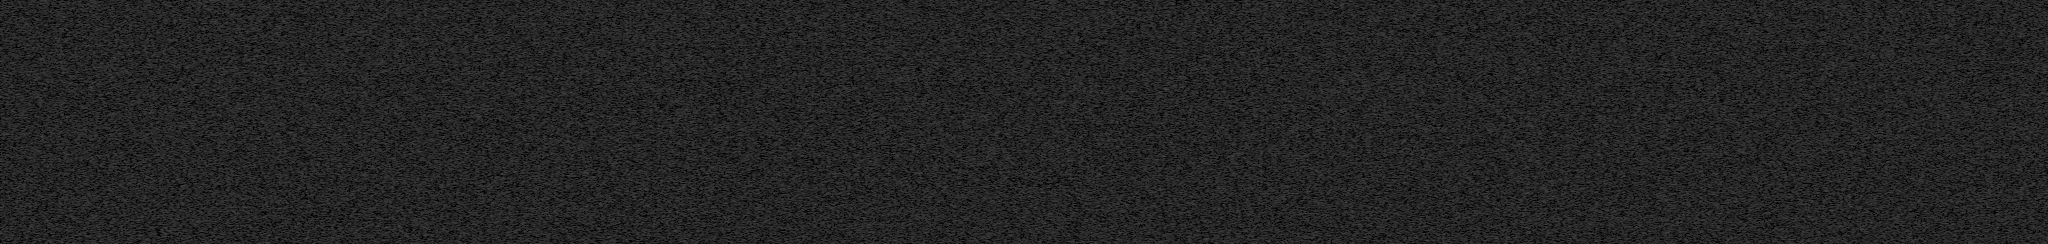wv_am: (502, 0, 516, 244)
wv_cw: (1529, 0, 1549, 244), (1708, 0, 1725, 244)
wv_lsb: (1755, 35, 1761, 63), (1755, 64, 1761, 82), (1755, 7, 1761, 21), (1755, 22, 1761, 34), (1755, 100, 1759, 115), (1755, 127, 1759, 136), (1755, 93, 1759, 100), (1755, 116, 1759, 123), (1755, 84, 1759, 89), (1755, 3, 1761, 7), (1755, 224, 1759, 228), (1755, 164, 1759, 168), (1755, 211, 1759, 214), (1755, 155, 1759, 158)
wv_usb: (1465, 1, 1476, 244), (1921, 22, 1929, 244), (1896, 130, 1902, 231), (1896, 53, 1902, 106), (1896, 3, 1902, 52), (1896, 110, 1902, 129), (1923, 3, 1928, 21), (1898, 232, 1902, 239), (1898, 240, 1902, 244)
wv_wbfm: (1654, 0, 1691, 244)
